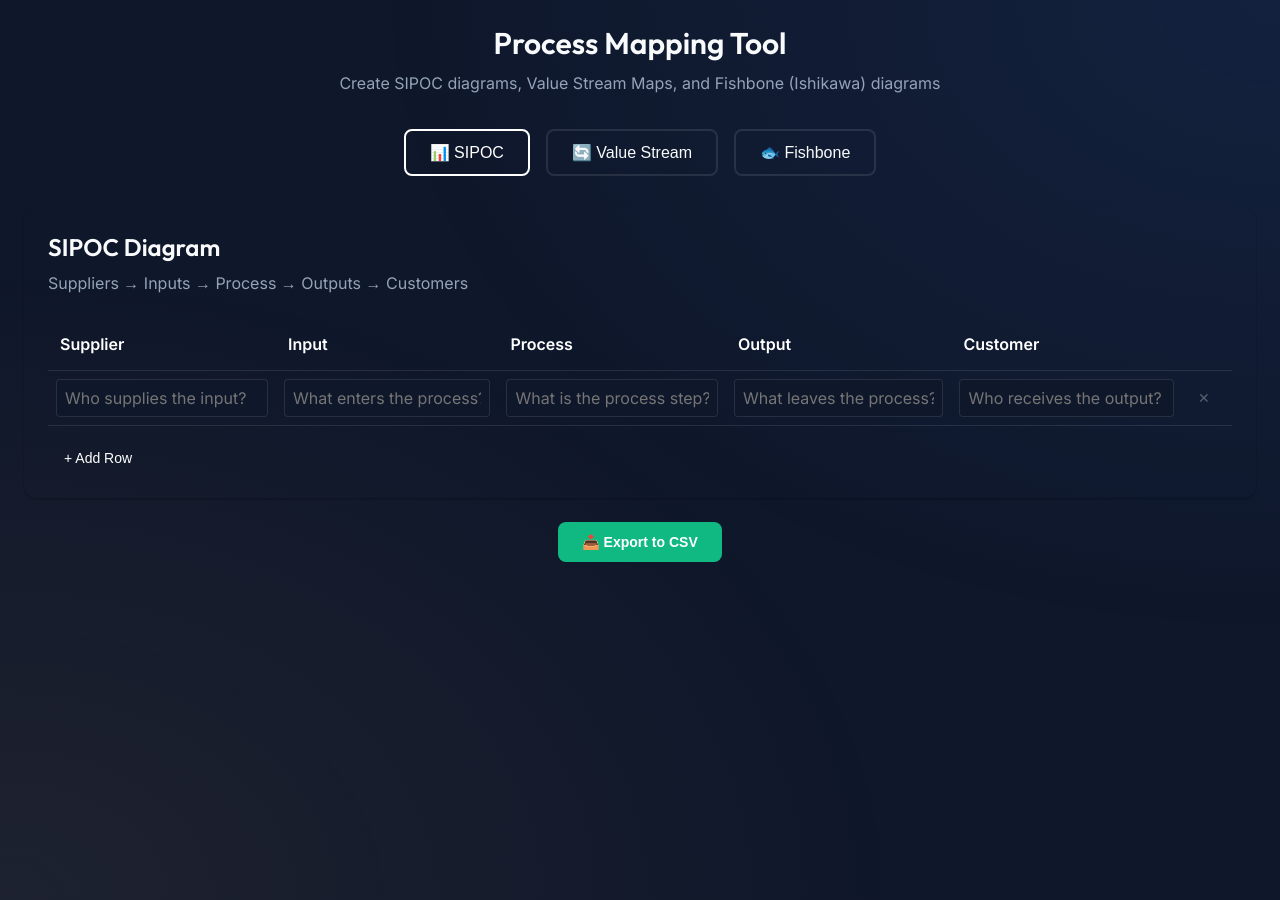
Test: ProcessMapping › Diagram Type Switching › switches to Fishbone when button clicked
Click the button "🐟 Fishbone": point(805, 152) [734,129,876,176]
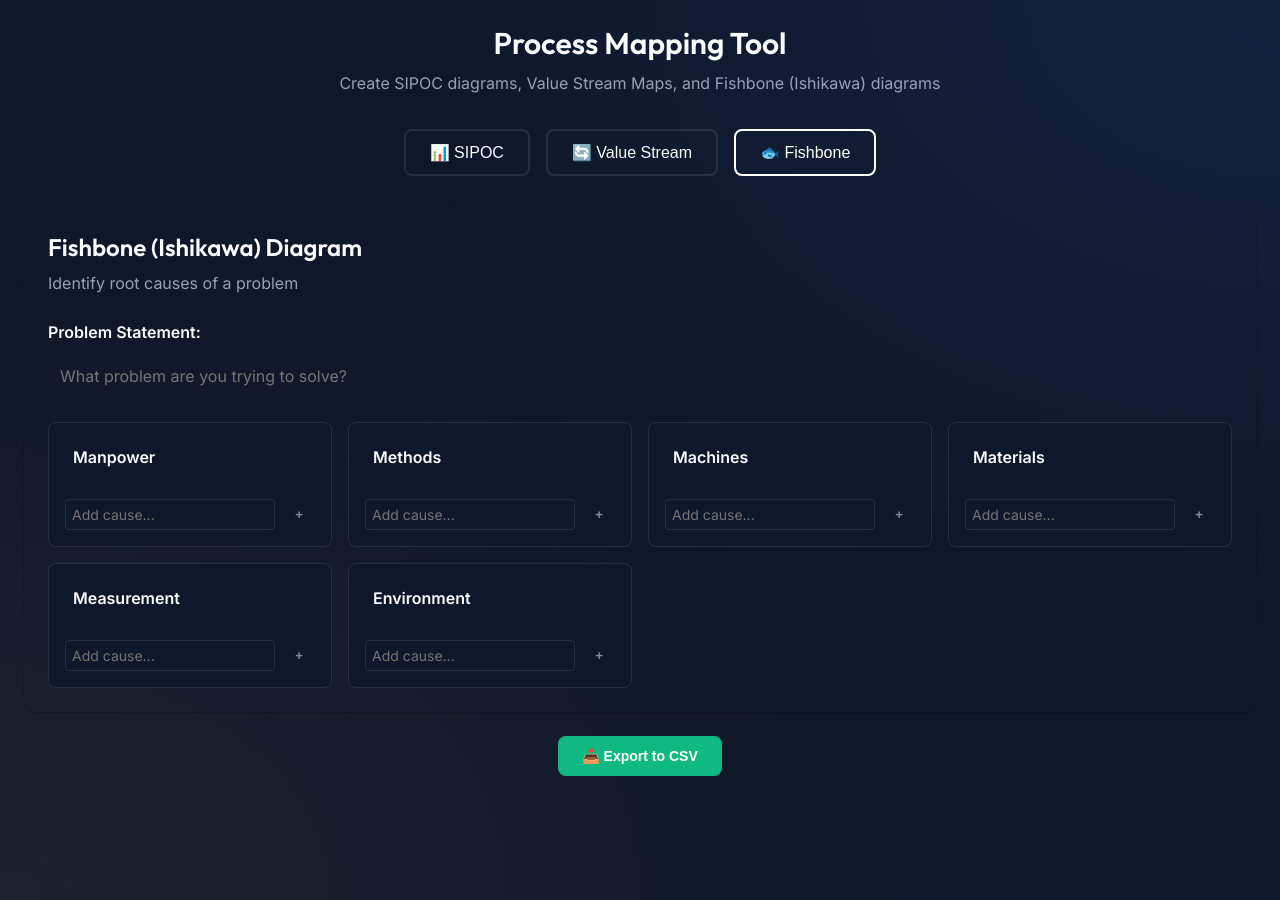
Check: the heading "Fishbone (Ishikawa) Diagram" is shown, box [48,232,362,262]
